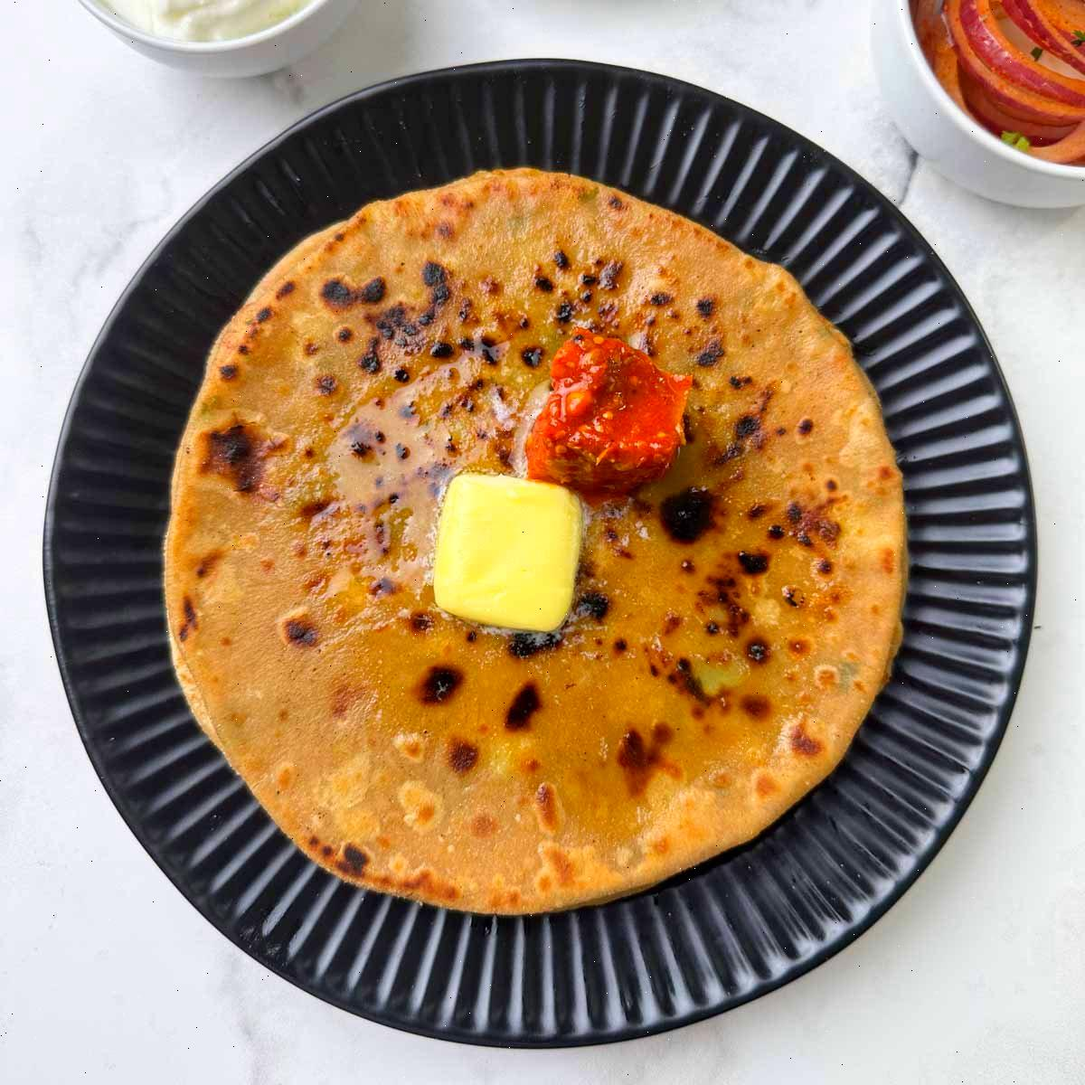paratha: (161, 164, 945, 918)
